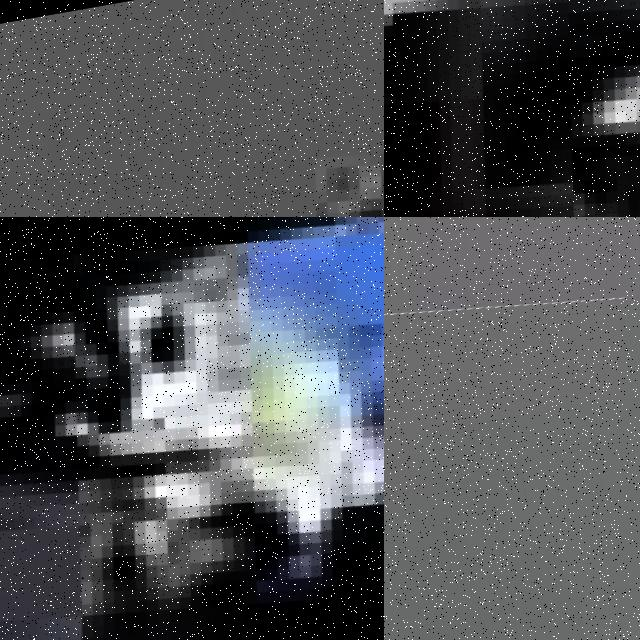0: (0, 217, 384, 640), (0, 0, 384, 217), (384, 0, 640, 217)
drone: (384, 217, 640, 374)
